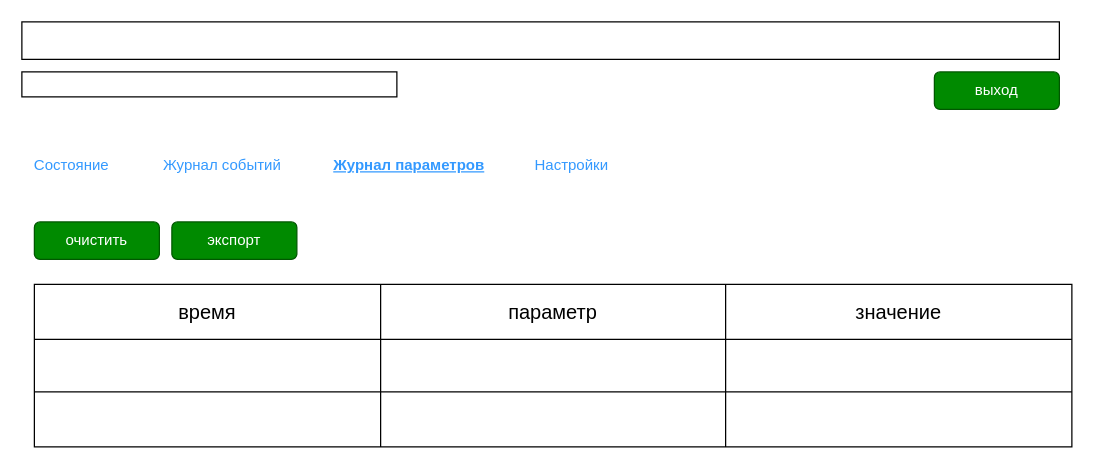
The diagram is 1094 pixels wide and 469 high, and some of its shapes have lost their labels. The shapes that lost their labels are listed below. From the top down, each one's box as (x1, y1, x2, y2) in pixels, then its label:
(21, 21, 1059, 59): РТК локальная консоль управления АК
(21, 71, 397, 97): Пользователь: <USER>, дата входа: <DATE TIME>
